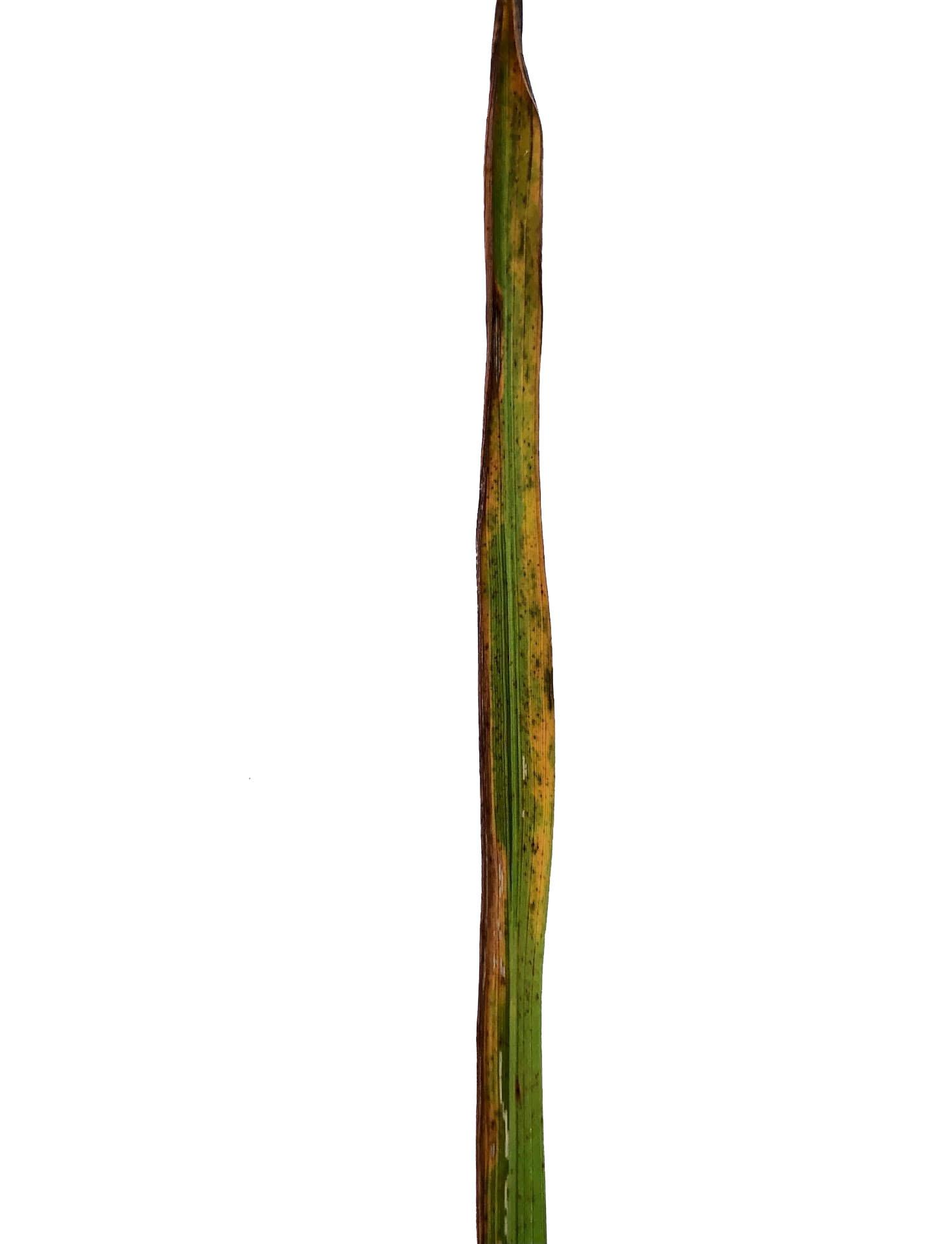Tungro: (475, 0, 556, 1244)
